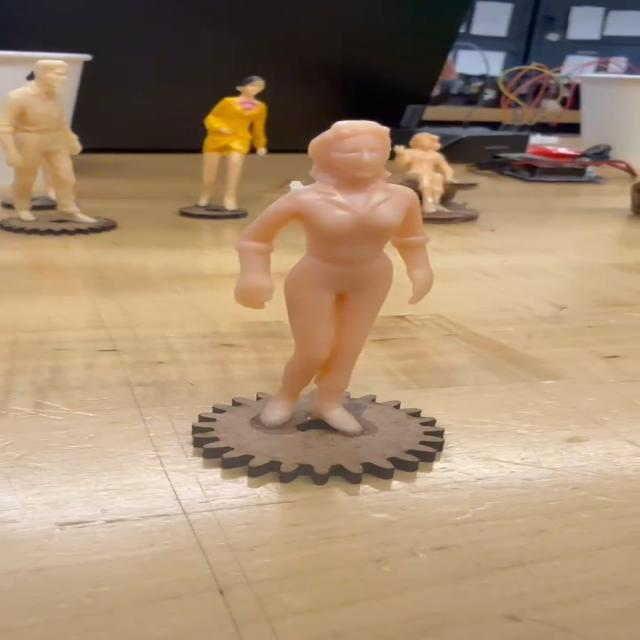Unauthorized: (222, 109, 483, 398)
